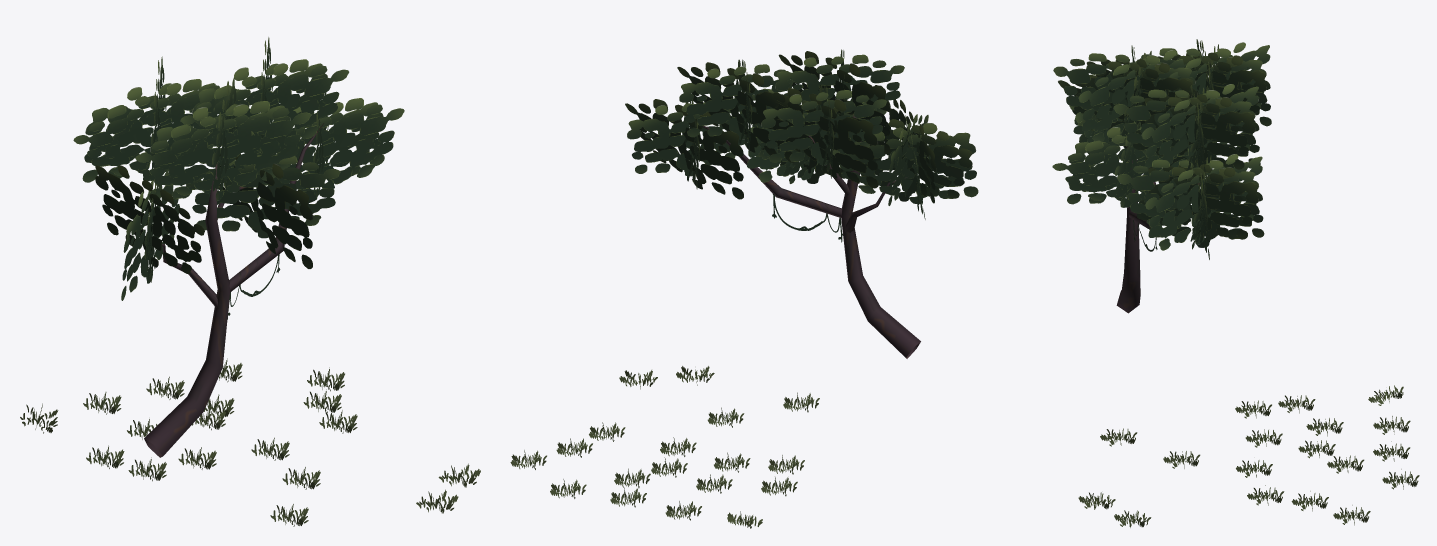
Rendered from Selvas01.fbx.
3 views of the same model, side by side, from view 1: azimuth 30°, elevation 25°; view 2: azimuth 150°, elevation 25°; view 3: azimuth 270°, elevation 25° (orthographic). The views are drawn at different scales.
Visible parts, largest first — view 1: Selvas01; view 2: Selvas01; view 3: Selvas01.
Part boxes in pixels (x1,y1,x2,y2): Selvas01: [20, 37, 480, 526]; Selvas01: [510, 49, 978, 528]; Selvas01: [1052, 39, 1419, 527].
Size of the model in its own units: 62.19 by 63.29 by 58.42.
